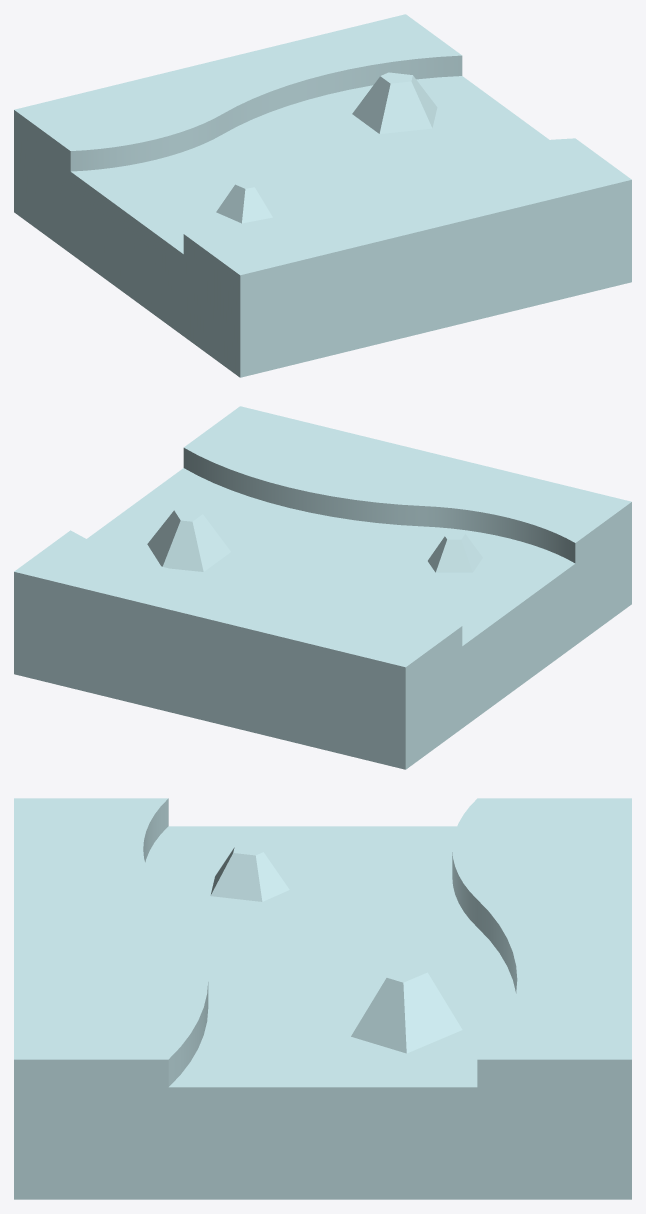
Rendered from ground_dirtRiverRocks.fbx.
3 views of the same model, one above another, from view 1: azimuth 30°, elevation 25°; view 2: azimuth 150°, elevation 25°; view 3: azimuth 270°, elevation 25° (orthographic). The views are drawn at different scales.
Visible parts, largest first — view 1: ground_dirtRiverRocks; view 2: ground_dirtRiverRocks; view 3: ground_dirtRiverRocks.
Part boxes in pixels (box(x1,y1,x2,y2)): ground_dirtRiverRocks: box(14, 14, 631, 377); ground_dirtRiverRocks: box(14, 406, 631, 769); ground_dirtRiverRocks: box(14, 798, 631, 1199).
Bounding box in the file's own units: 300 × 88.83 × 300.
